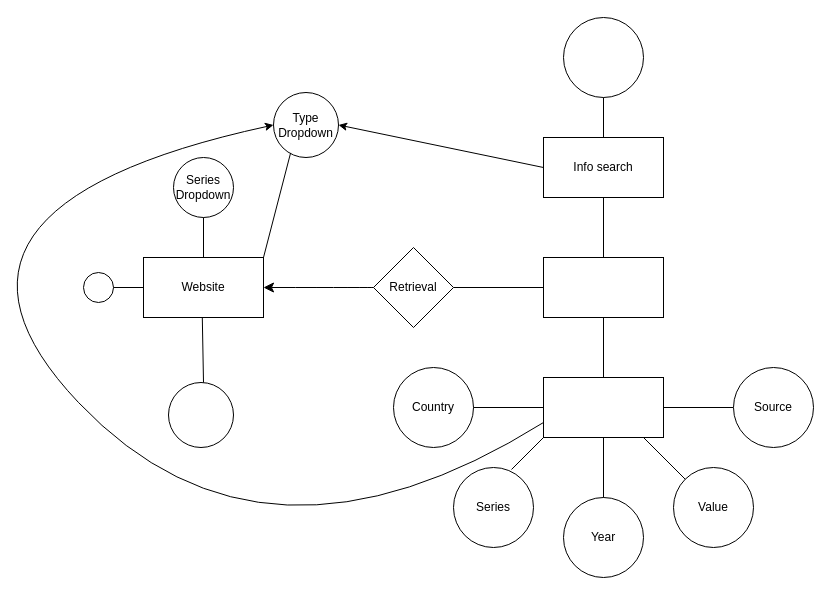
The diagram is 832 pixels wide and 595 high, and some of its shapes have lost their labels. The centre of each missing label's shape, as x and y in pixels:
"Country Dropdown" belongs at point 201,415.
"Database" belongs at point 603,287.
"Other informations" belongs at point 603,57.
"URL" belongs at point 98,287.
"Value search" belongs at point 603,407.
